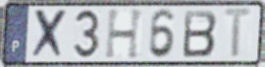3: (71, 7, 103, 61)
6: (147, 7, 177, 60)
B: (181, 9, 219, 59)
H: (103, 7, 146, 60)
T: (222, 6, 255, 61)
X: (29, 8, 69, 61)
